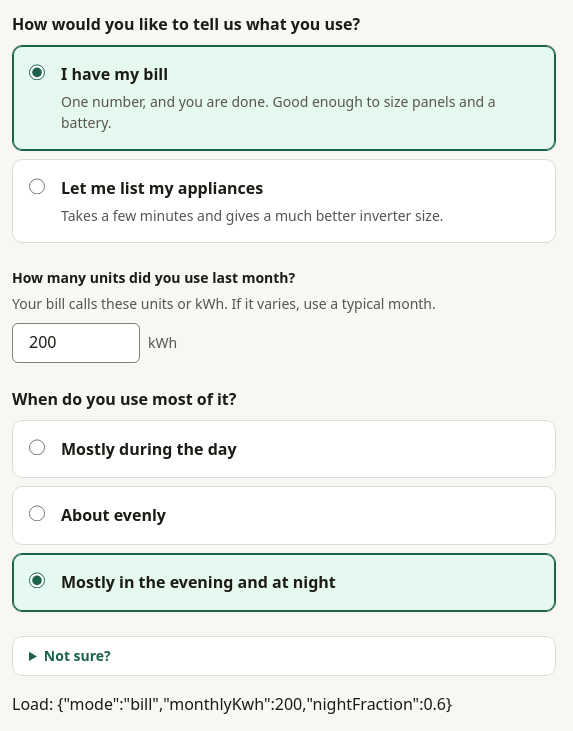
Test: StepUsage › records when the power is used
This screenshot has width=573, height=731.
Click the radio button labelled "Mostly during the day".
click(37, 447)  # box [29,439,45,455]
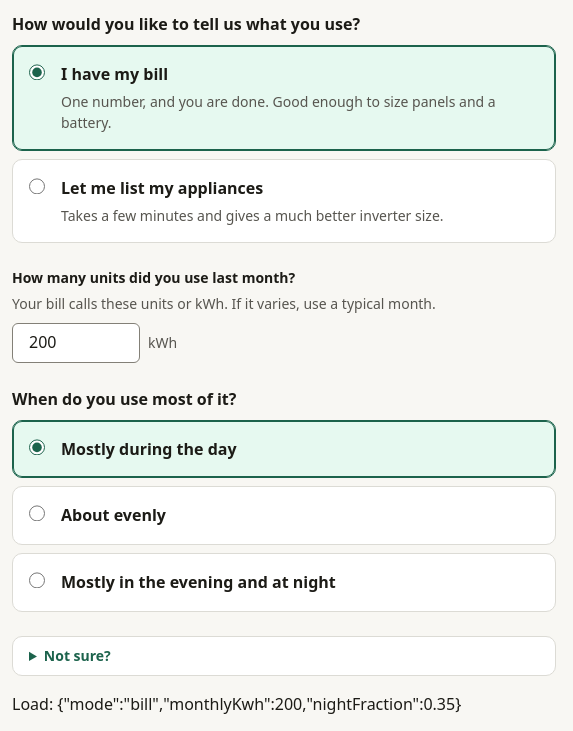
Check: the text "Load: {\"mode\":\"bill\",\"monthlyKwh\":200,\"nightFraction\":0.35}" is shown, box [12,693,461,715]
